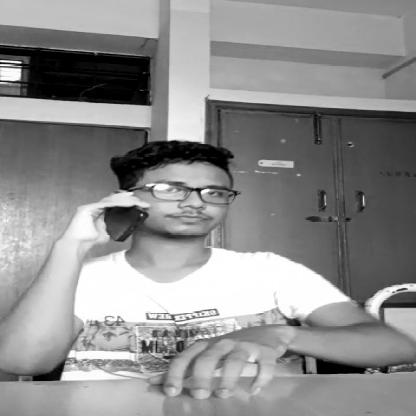Normal: (137, 145, 244, 246)
